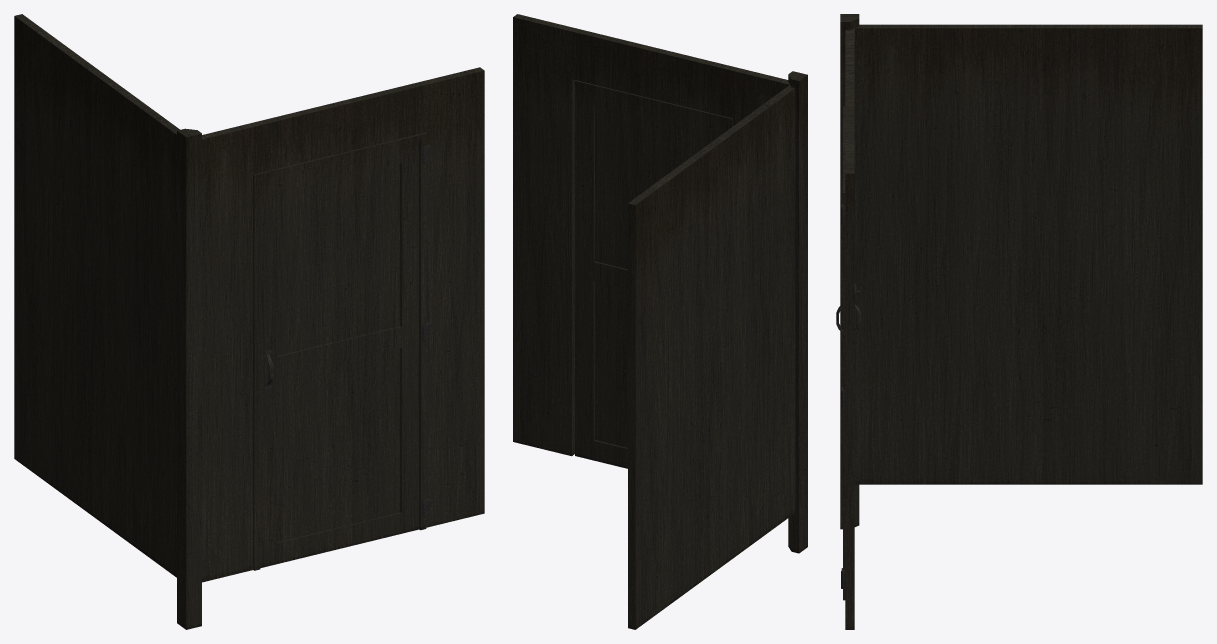
Rendered from toilet_cabin_mp_1.glb.
3 renders of one model, left to right at view 1: azimuth 30°, elevation 25°; view 2: azimuth 150°, elevation 25°; view 3: azimuth 270°, elevation 25°, orthographic. The views are drawn at different scales.
Visible parts, largest first — view 1: toilet_cabin_mp_1, toilet_cabin_mp_1_door; view 2: toilet_cabin_mp_1, toilet_cabin_mp_1_door; view 3: toilet_cabin_mp_1, toilet_cabin_mp_1_door.
Part boxes in pixels (box(x1,y1,x2,y2)): toilet_cabin_mp_1: box(14, 14, 484, 629); toilet_cabin_mp_1_door: box(253, 132, 430, 570); toilet_cabin_mp_1: box(513, 14, 807, 629); toilet_cabin_mp_1_door: box(575, 80, 732, 468); toilet_cabin_mp_1: box(840, 14, 1202, 629); toilet_cabin_mp_1_door: box(836, 106, 861, 600).
Bounding box in the file's own units: 1.52 × 2.38 × 1.56.
Materials: 4 (4 with a texture image).
